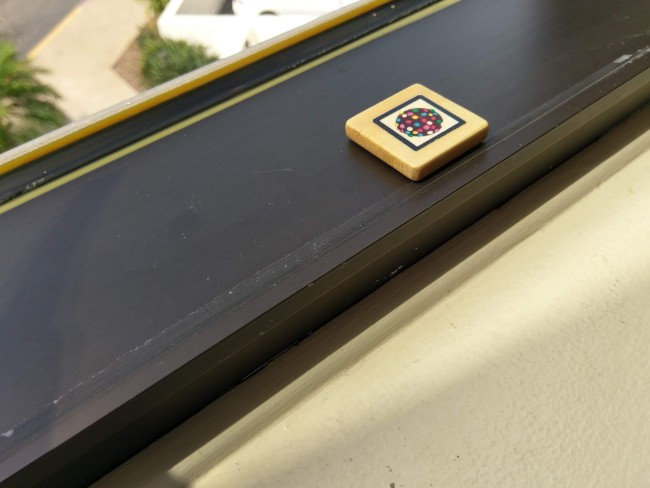cookie: (357, 91, 475, 158)
